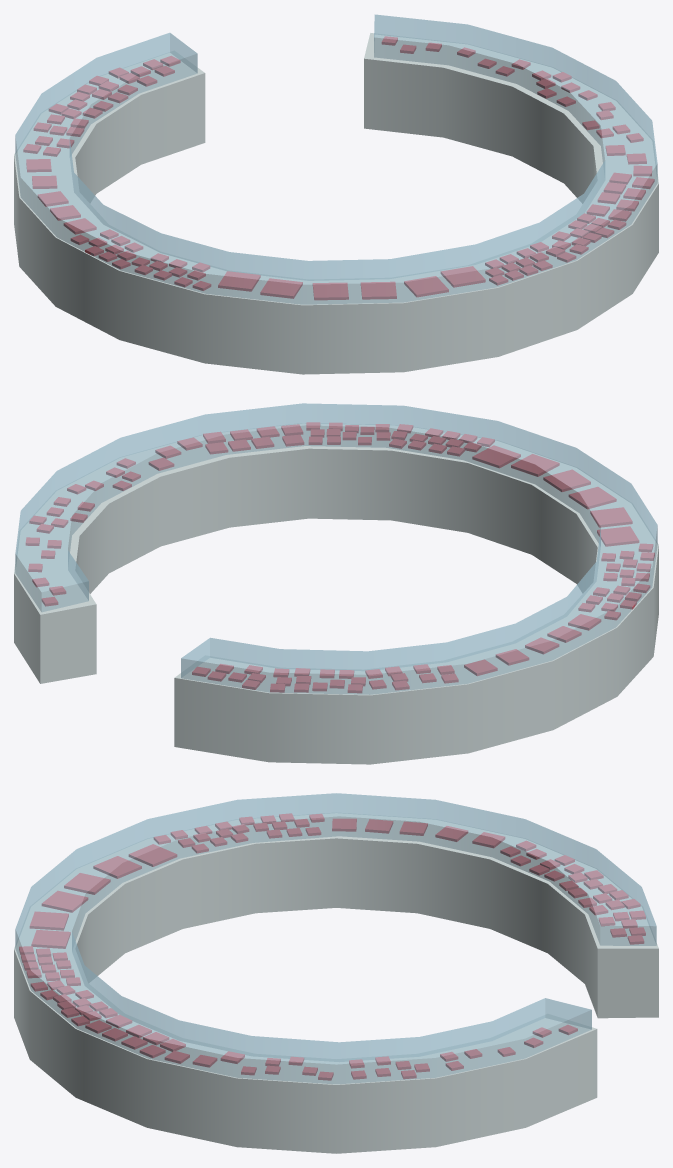
The model's file is Butcher Table.fbx.
The picture shows the model from 3 angles, top to bottom: view 1: azimuth 30°, elevation 25°; view 2: azimuth 150°, elevation 25°; view 3: azimuth 270°, elevation 25°; orthographic projection.
Visible parts, largest first — view 1: presentoire_cylindrique_butcher; view 2: presentoire_cylindrique_butcher; view 3: presentoire_cylindrique_butcher.
Boxes of the visible parts, bbox=[...] form: presentoire_cylindrique_butcher: bbox=[14, 14, 658, 374]; presentoire_cylindrique_butcher: bbox=[14, 403, 658, 764]; presentoire_cylindrique_butcher: bbox=[14, 793, 658, 1153].
Bounding box in the file's own units: 6.81 × 1.05 × 6.81.
